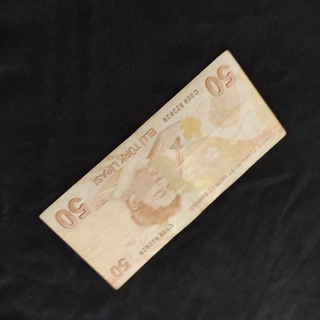50TLBack: (38, 49, 288, 290)
